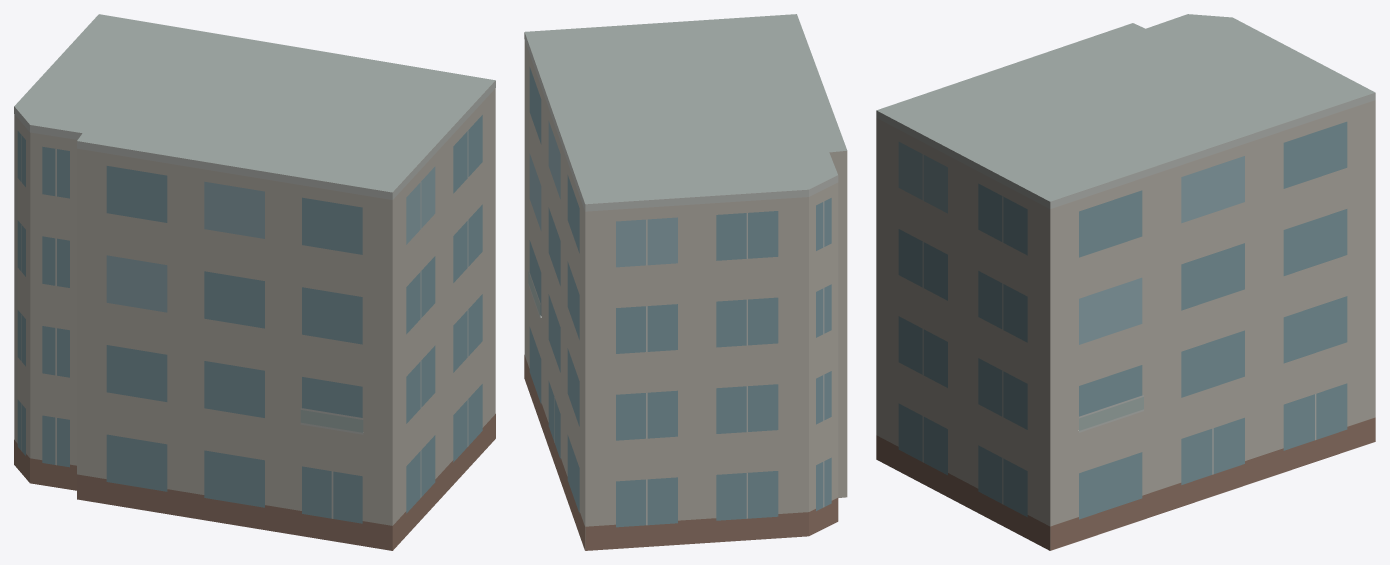
File: survey-upis-32732695.glb
3 views of the same model, side by side, from view 1: azimuth 30°, elevation 25°; view 2: azimuth 150°, elevation 25°; view 3: azimuth 270°, elevation 25° (orthographic). The views are drawn at different scales.
Parts seen in each view (by area): view 1: survey-upis-32732695.tmp; view 2: survey-upis-32732695.tmp; view 3: survey-upis-32732695.tmp.
Boxes of the visible parts, x1,y1,x2,y2 form: survey-upis-32732695.tmp: [14, 14, 495, 550]; survey-upis-32732695.tmp: [524, 14, 847, 550]; survey-upis-32732695.tmp: [876, 14, 1375, 550].
Size of the model in its own units: 13.28 by 11.5 by 14.92.
